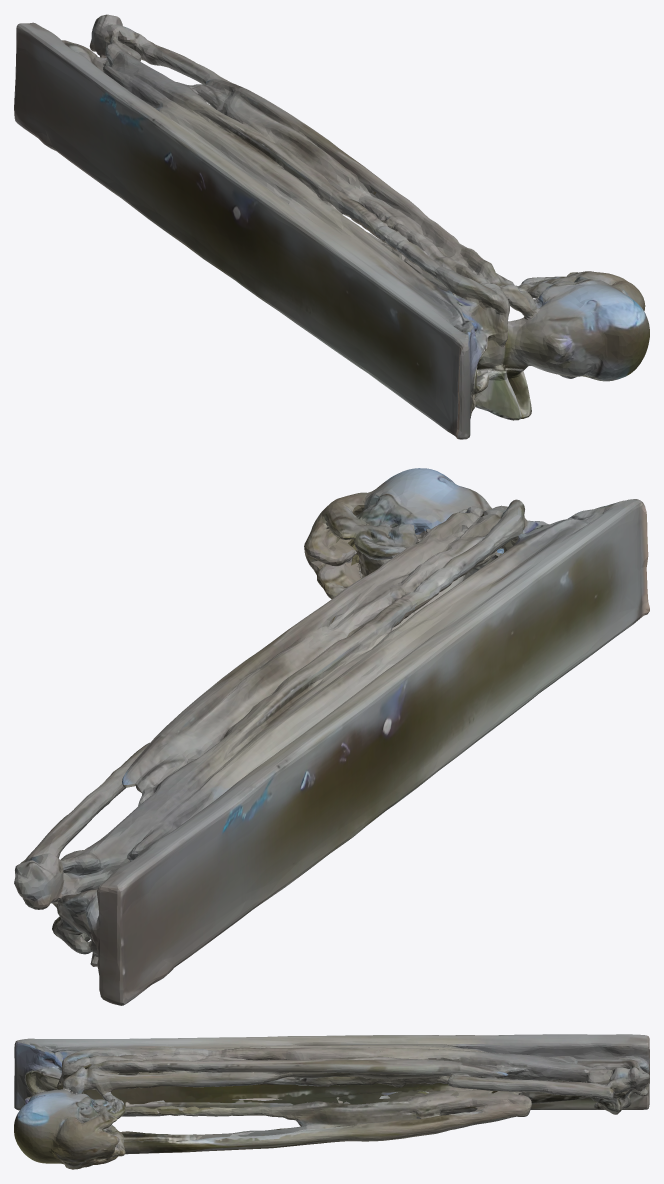
File: silver-beauty.glb
3 views of the same model, one above another, from view 1: azimuth 30°, elevation 25°; view 2: azimuth 150°, elevation 25°; view 3: azimuth 270°, elevation 25° (orthographic). The views are drawn at different scales.
Parts seen in each view (by area): view 1: silver beauty_textured.obj; view 2: silver beauty_textured.obj; view 3: silver beauty_textured.obj.
Part boxes in pixels (x1,y1,x2,y2): silver beauty_textured.obj: (14,14,649,439); silver beauty_textured.obj: (14,468,649,1005); silver beauty_textured.obj: (14,1034,649,1169).
Bounding box in the file's own units: 0.6123 × 0.3247 × 1.99.
Materials: 1 (1 with a texture image).
